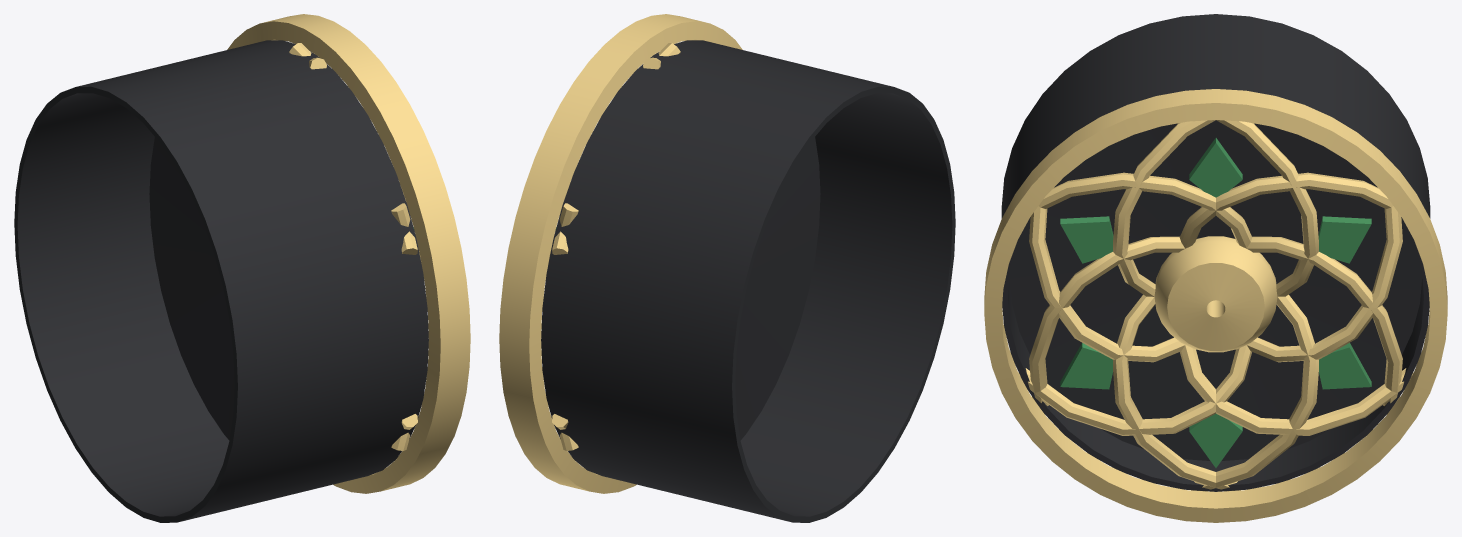
The model's file is rim_lace.fbx.
The picture shows the model from 3 angles, left to right: view 1: azimuth 30°, elevation 25°; view 2: azimuth 150°, elevation 25°; view 3: azimuth 270°, elevation 25°; orthographic projection. The views are drawn at different scales.
Parts seen in each view (by area): view 1: dark_1, gold_1; view 2: dark_1, gold_1; view 3: dark_1, gold_1, green_1.
Boxes of the visible parts, x1,y1,x2,y2 form: dark_1: (14,40,428,522); gold_1: (227,14,470,493); dark_1: (541,40,955,522); gold_1: (499,14,742,493); dark_1: (1001,14,1430,491); gold_1: (984,89,1447,522); green_1: (1060,138,1371,467).
Size of the model in its own units: 0.0221 by 0.0409 by 0.0409.
